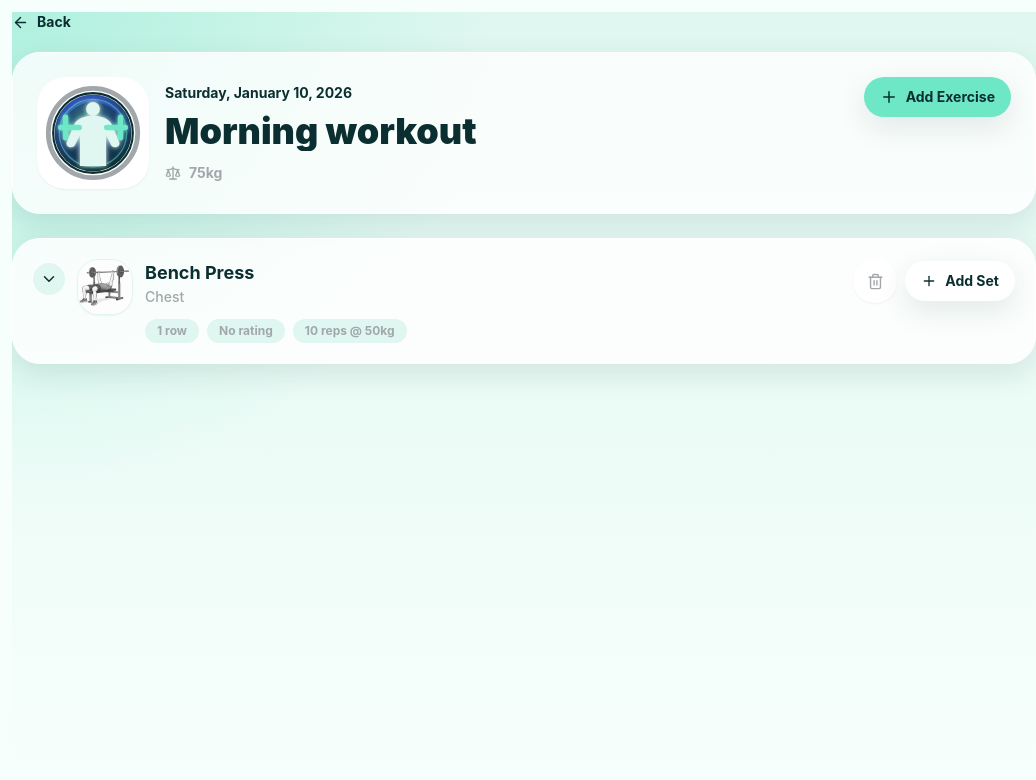
shows exercise save failures
What coordinates should you click on to do the following:
click the button "Bench Press Chest 1 row No rating 10 reps @ 50kg"
I would click on:
 (49, 279)
Its box is [33,259,407,343].
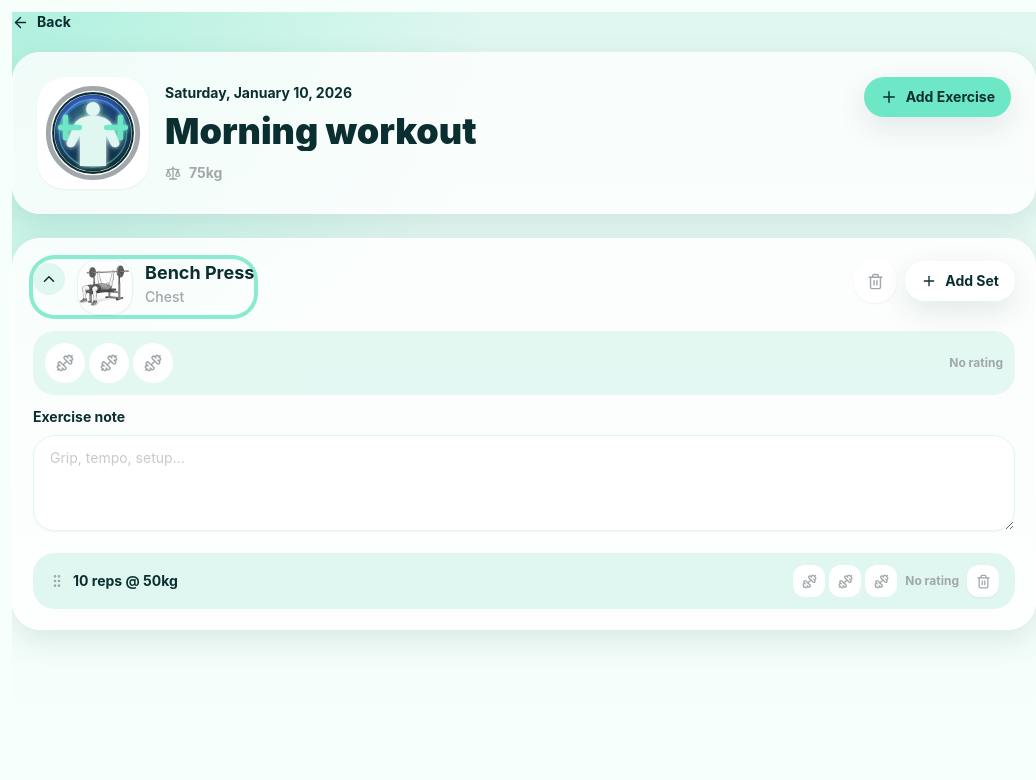
What coordinates should you click on to do the following:
click the button named "Set exercise rating to 1"
I would click on:
 (65, 363)
Its box is [45,343,85,383].
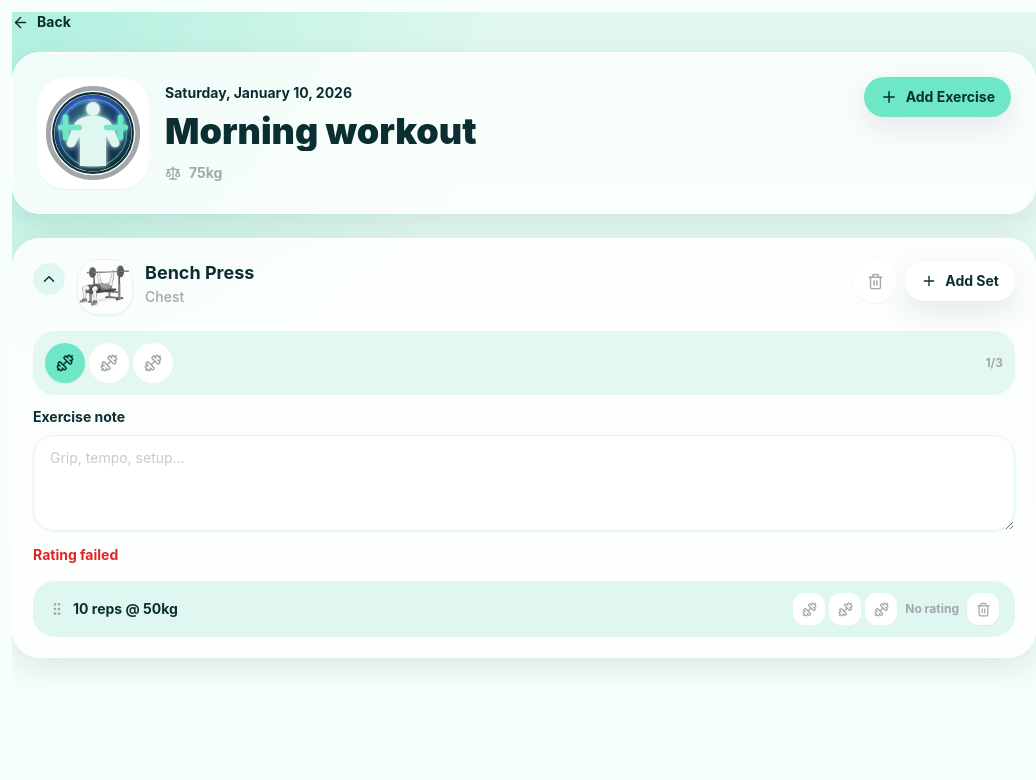
Expected: the text "Rating failed" is shown, [33,546,118,563]
